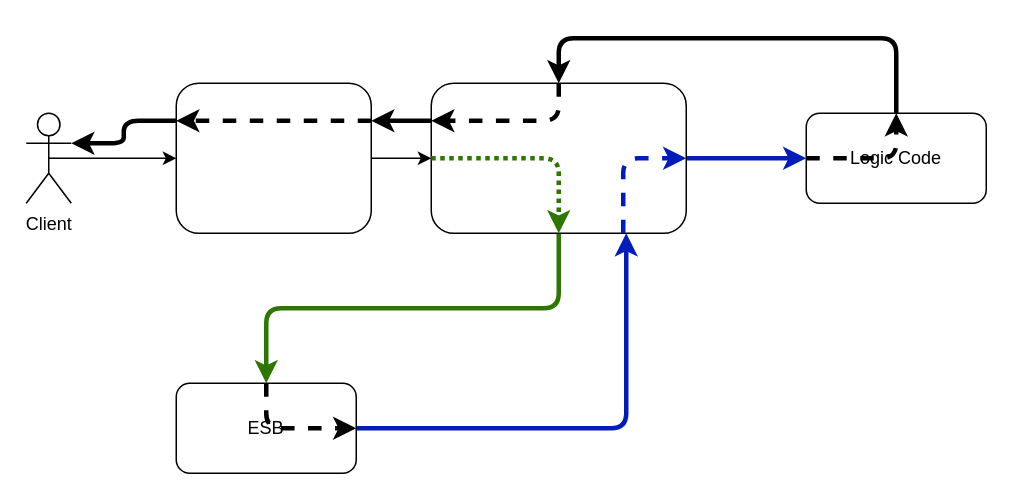
The diagram is 1013 pixels wide and 500 high, and some of its shapes have lost their labels. The centre of each missing label's shape, as x and y in pixels:
"Business GW" goes at (x=558, y=157).
"Security GW" goes at (x=273, y=157).
